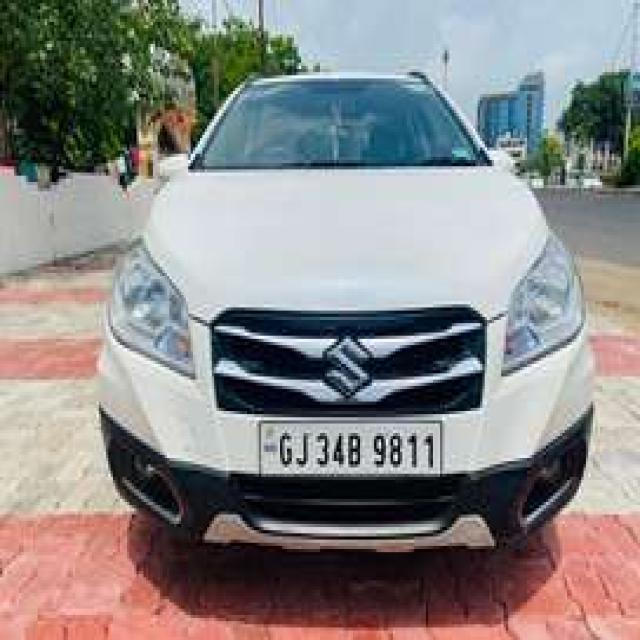licenseplate: (259, 419, 444, 475)
